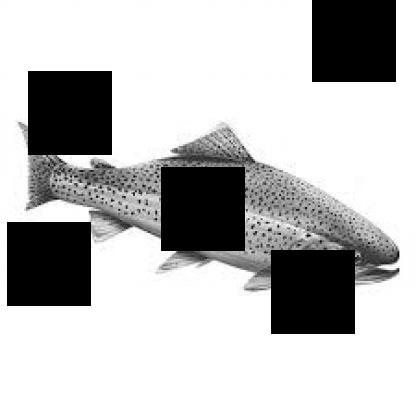fish: (9, 114, 404, 293)
